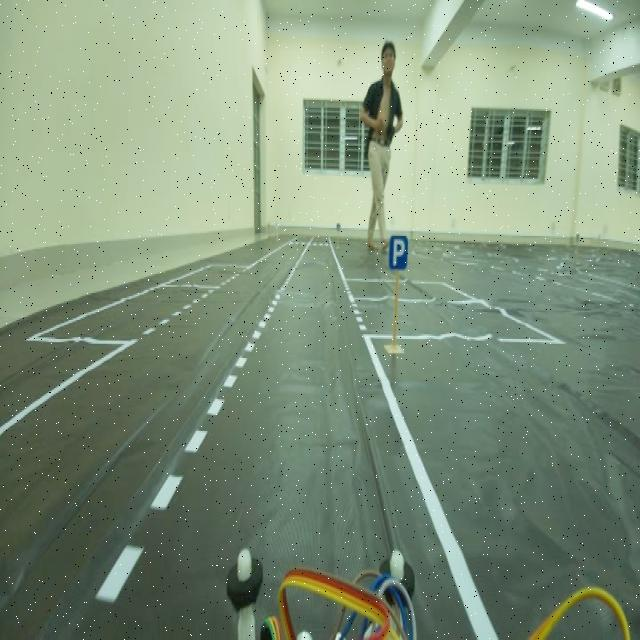parking: (386, 228, 412, 276)
